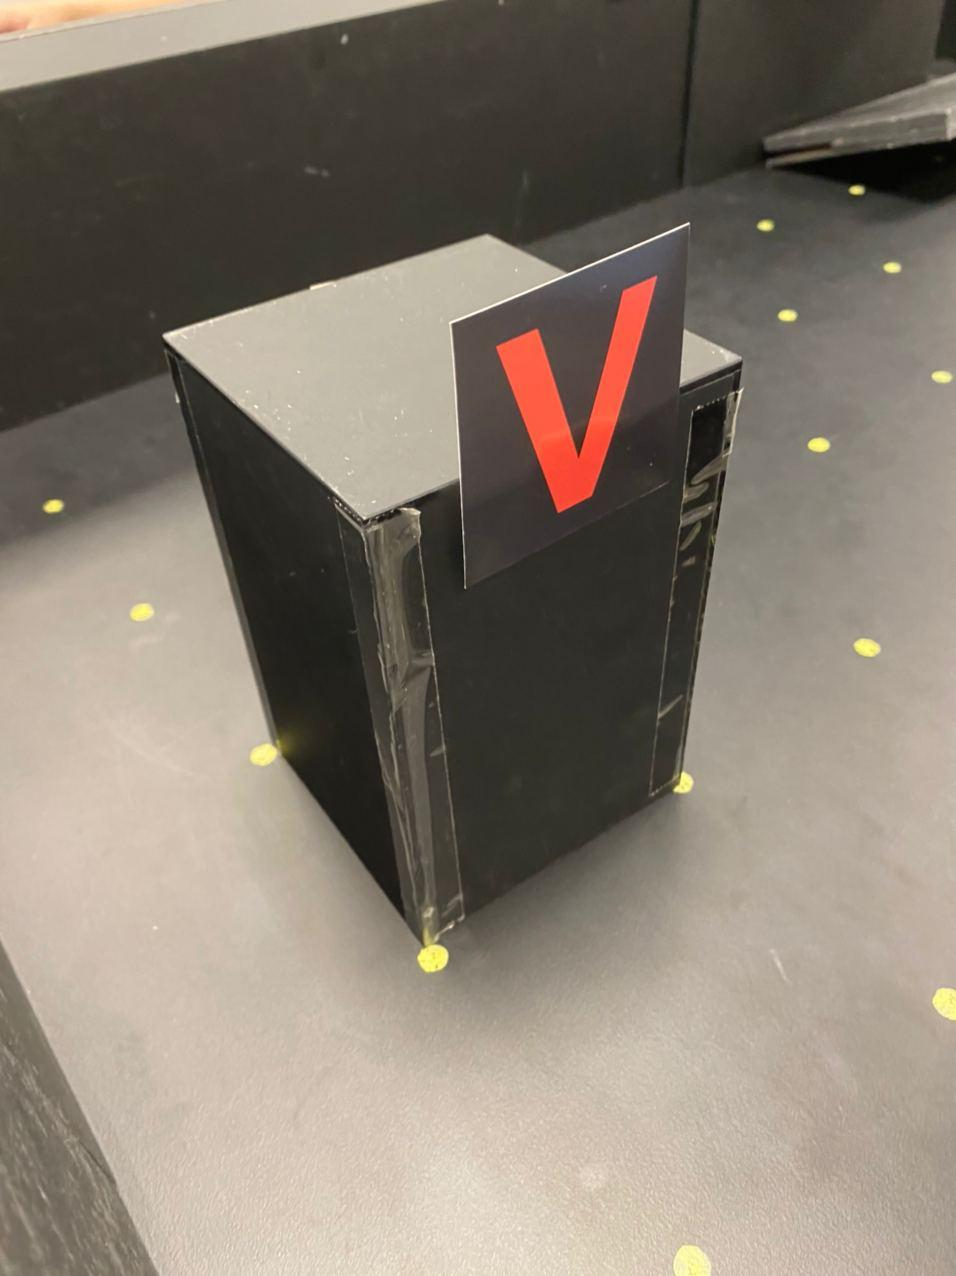v: (504, 286, 667, 515)
